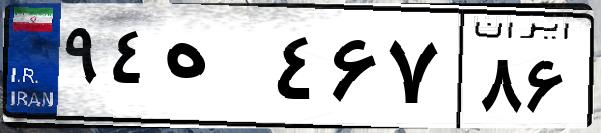4: (270, 28, 330, 110), (110, 28, 158, 98)
6: (330, 28, 385, 110), (525, 38, 570, 115)
7: (385, 28, 445, 110)
8: (475, 38, 525, 113)
9: (57, 26, 110, 100)
ه: (158, 20, 270, 120)
